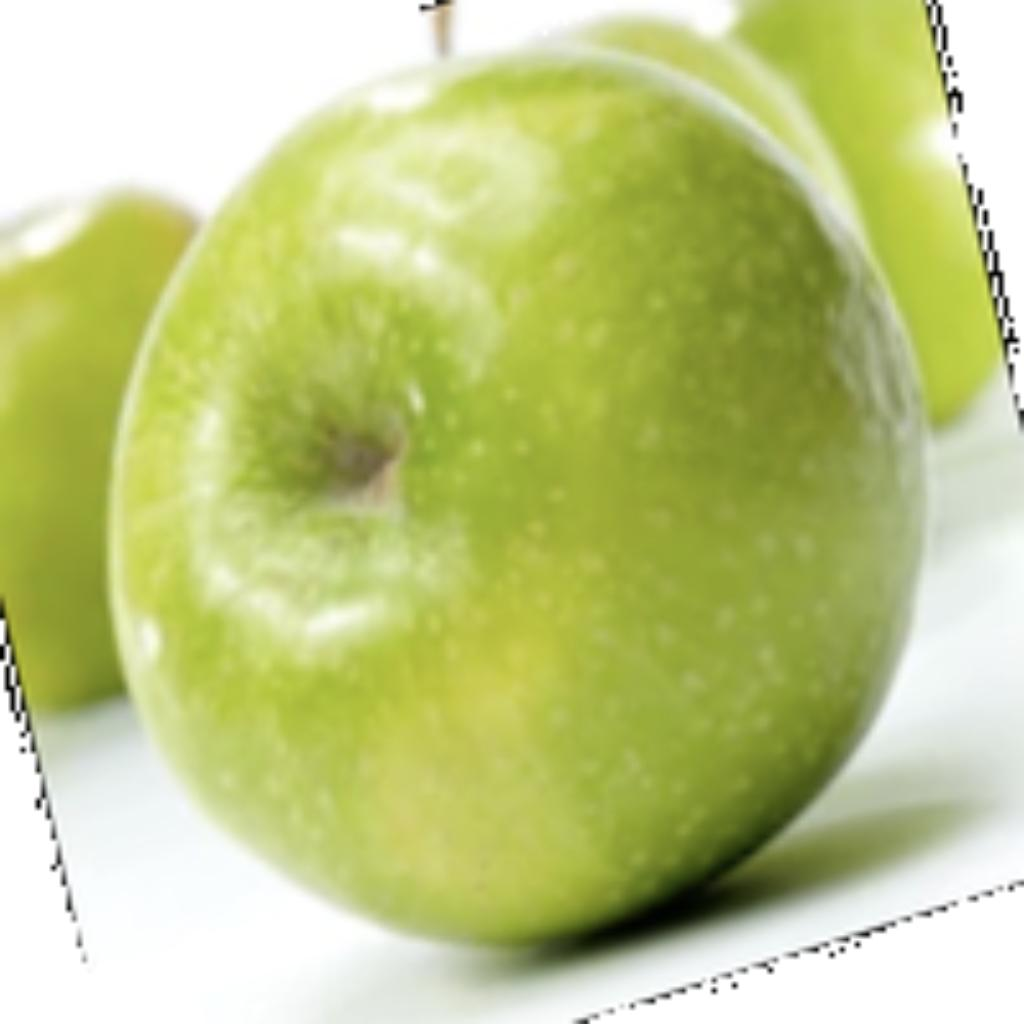apple: (0, 0, 1019, 1019)
